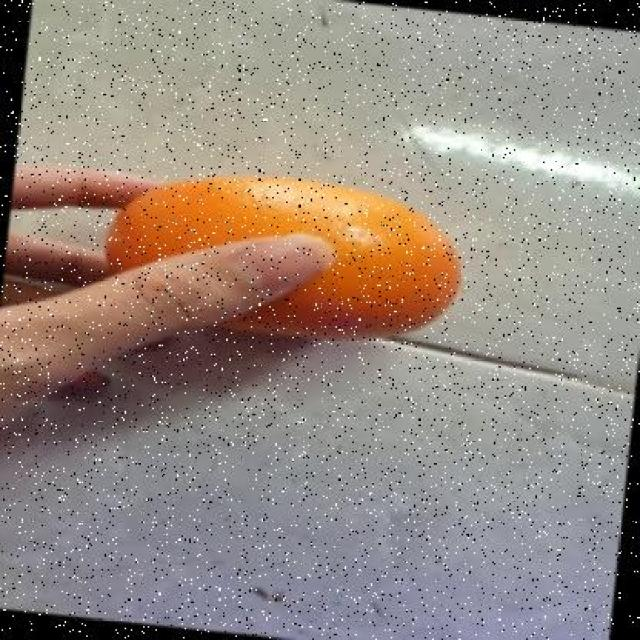Orange: (103, 172, 462, 342)
